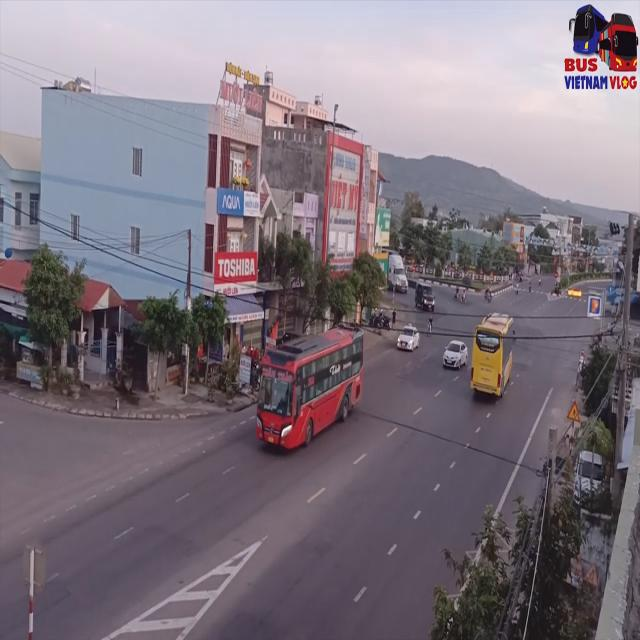bus: (255, 328, 362, 456), (470, 315, 516, 398)
car: (442, 339, 468, 371), (397, 325, 420, 352)
